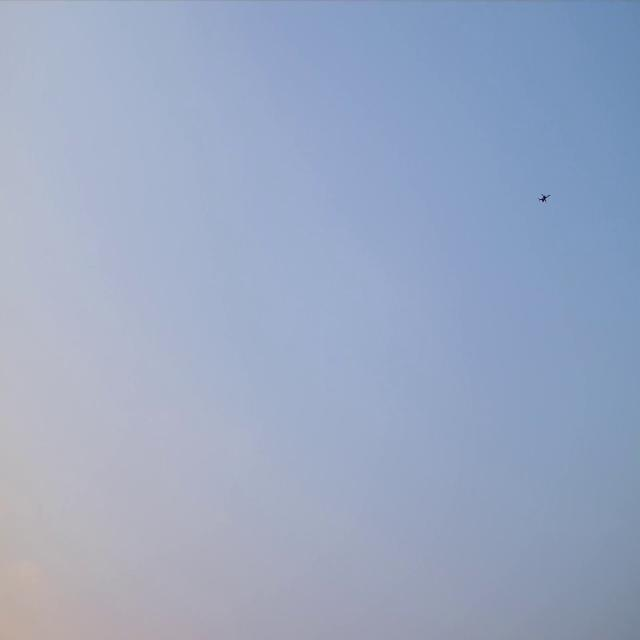UAV: (538, 192, 550, 204)
